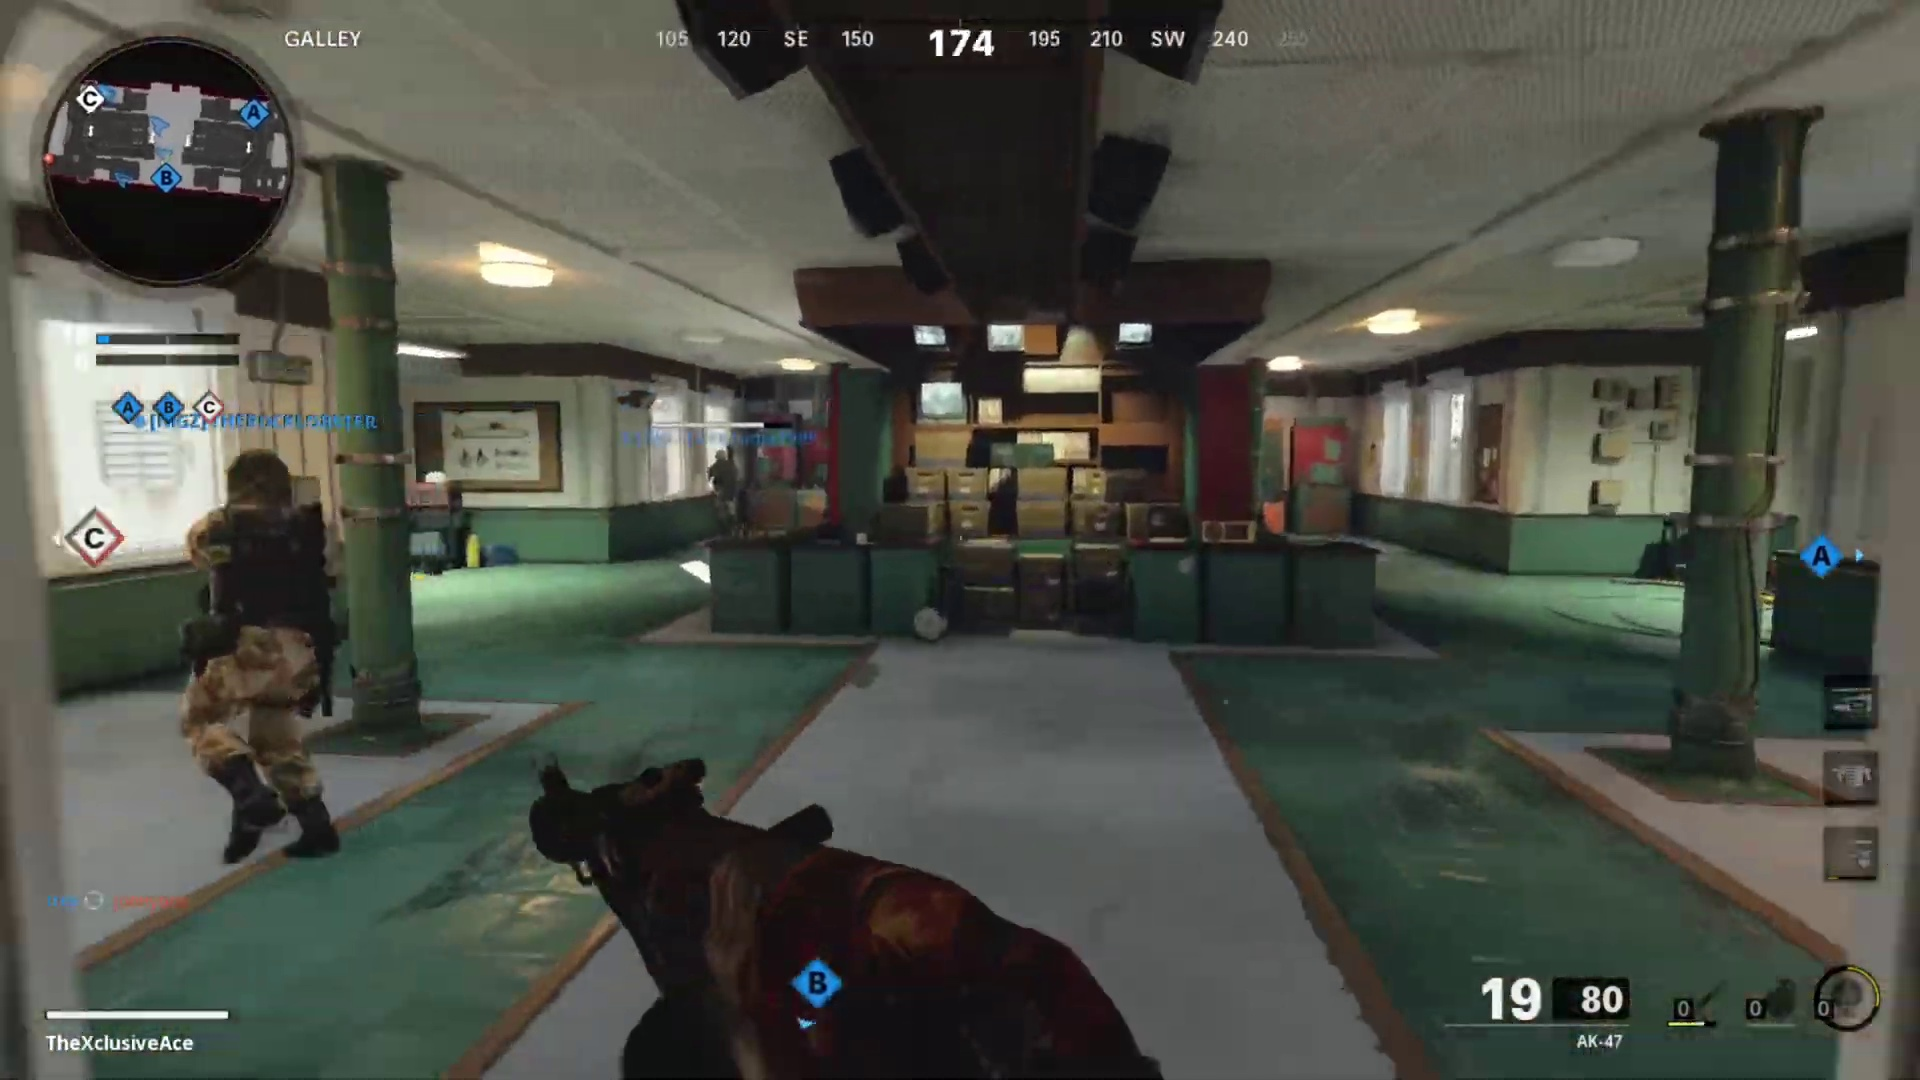head: (205, 437, 301, 529), (711, 443, 731, 467)
person: (178, 445, 346, 861), (704, 447, 735, 530)
